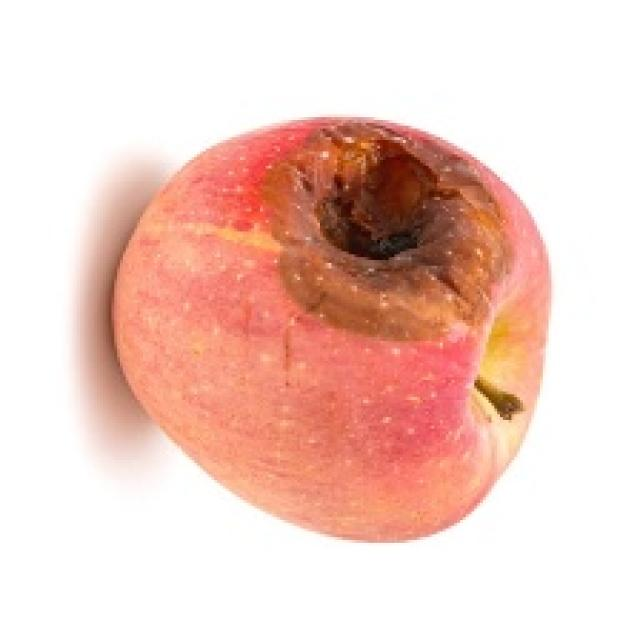rotten_apple: (119, 119, 548, 539)
